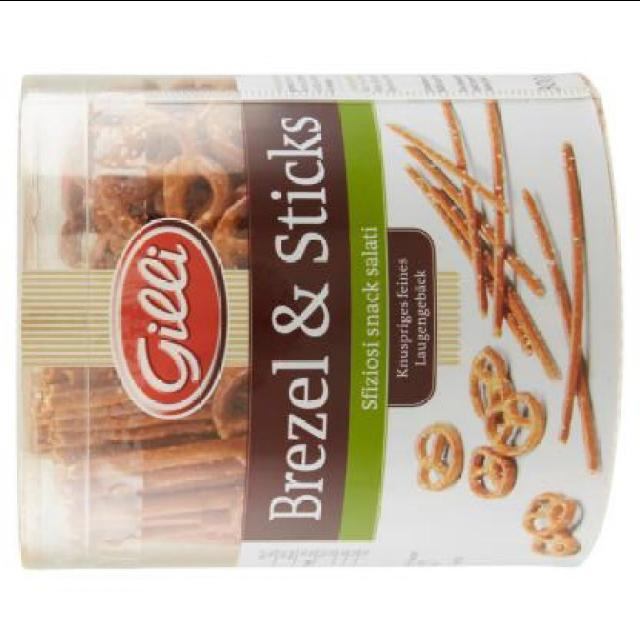Salatini: (11, 57, 624, 581)
